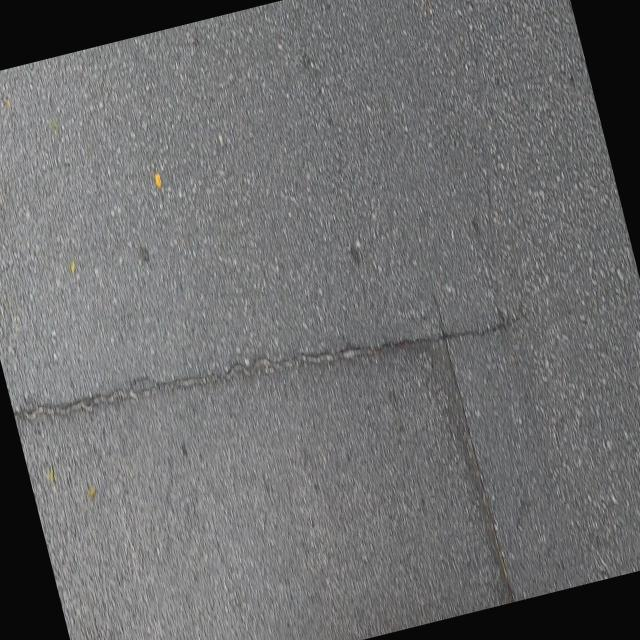Retak-Melintang: (11, 299, 530, 424)
Retak-Memanjang: (426, 297, 520, 602)
